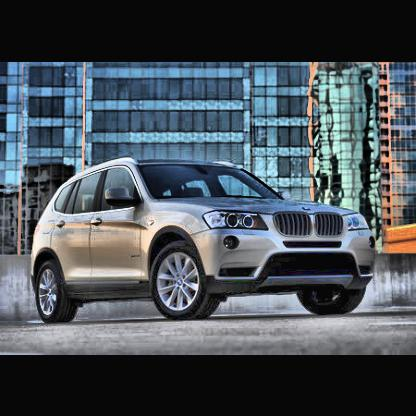BMW X3 SUV 2012: (31, 159, 379, 324)
